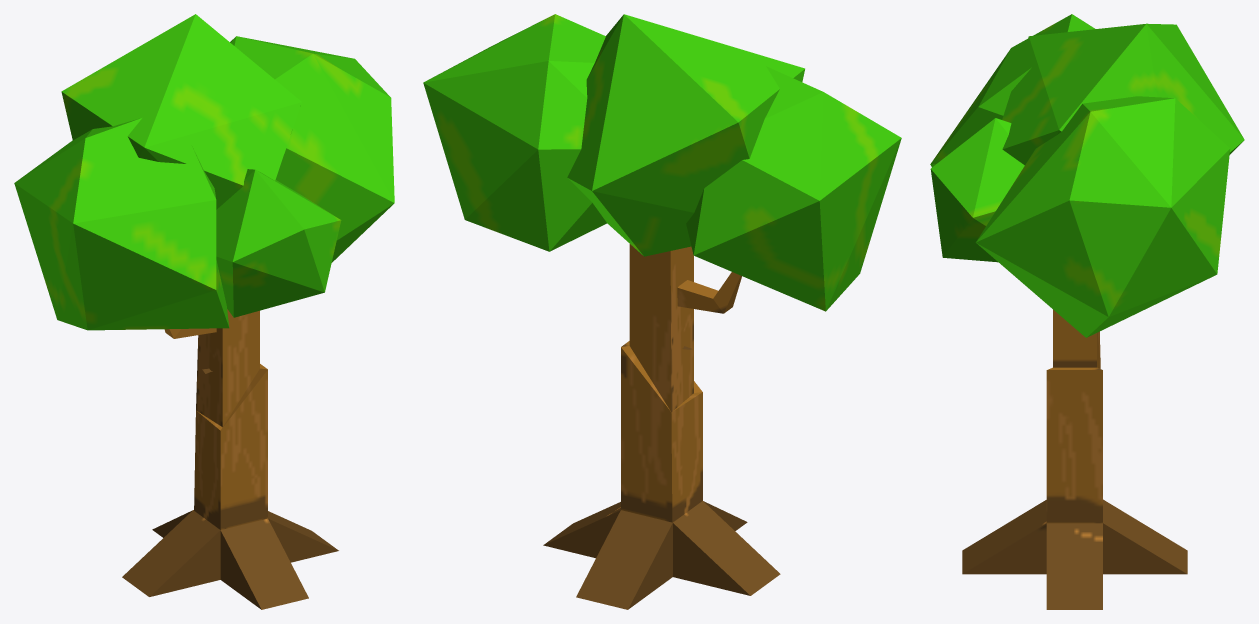
The model's file is tree_chesburg_4.glb.
3 views of the same model, side by side, from view 1: azimuth 30°, elevation 25°; view 2: azimuth 150°, elevation 25°; view 3: azimuth 270°, elevation 25° (orthographic). The views are drawn at different scales.
Visible parts, largest first — view 1: leaves.003; view 2: leaves.003; view 3: leaves.003.
Part boxes in pixels (x1,y1,x2,y2): leaves.003: [14, 14, 394, 609]; leaves.003: [423, 14, 901, 609]; leaves.003: [930, 14, 1244, 609].
Size of what is drawn, in the model's own units: 7.68 by 10.55 by 5.58.
1 material, 1 textured.
